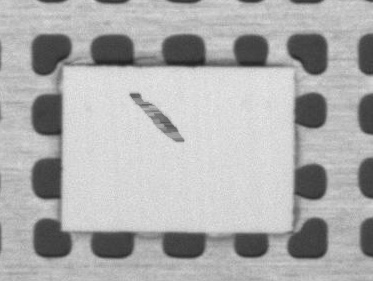DIE_INK: (127, 90, 185, 143)
